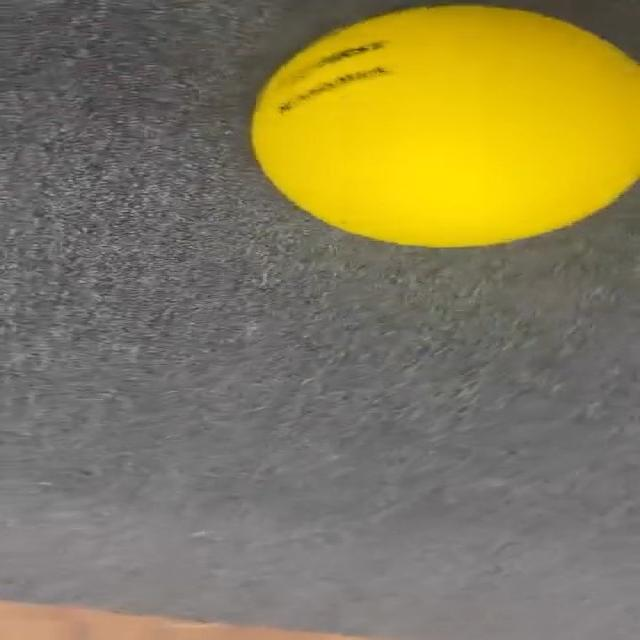Fuels: (254, 0, 640, 249)
